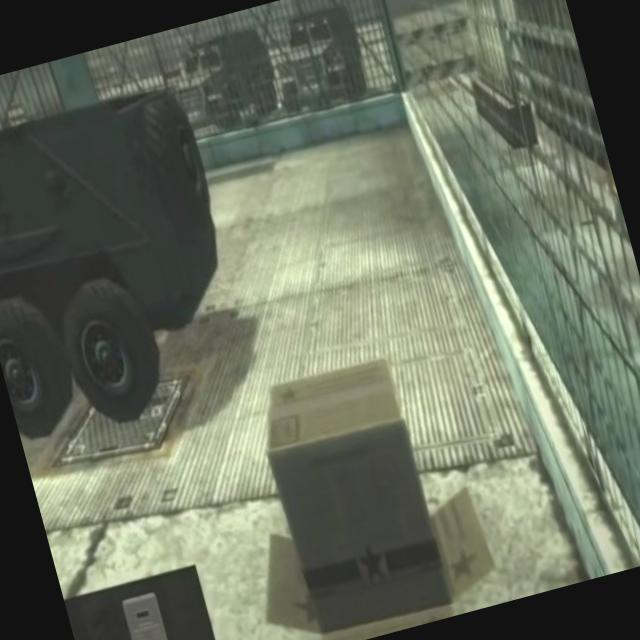snake-in-cardboard-boxes: (205, 335, 507, 640)
